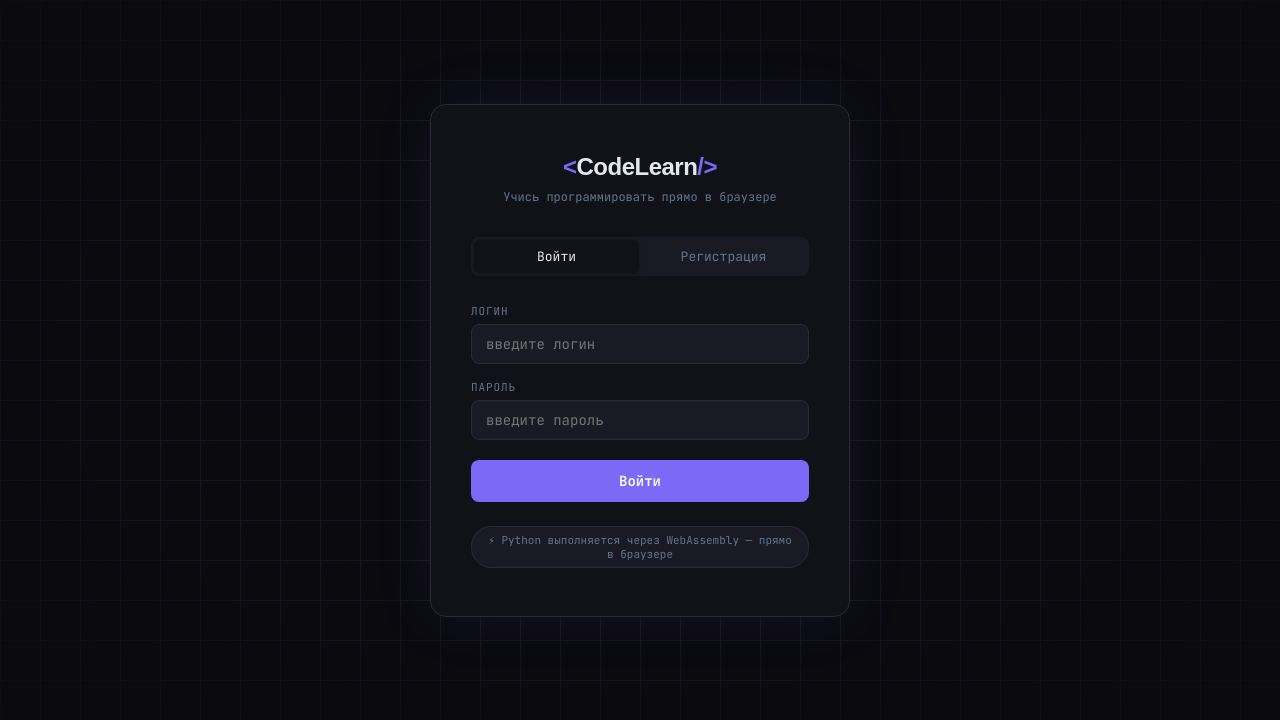
Test: сообщение об ошибке исчезает при переключении вкладки
In the field with placeholder "введите логин": (640, 344) top-left (471, 324), bottom-right (809, 364), type "alice"
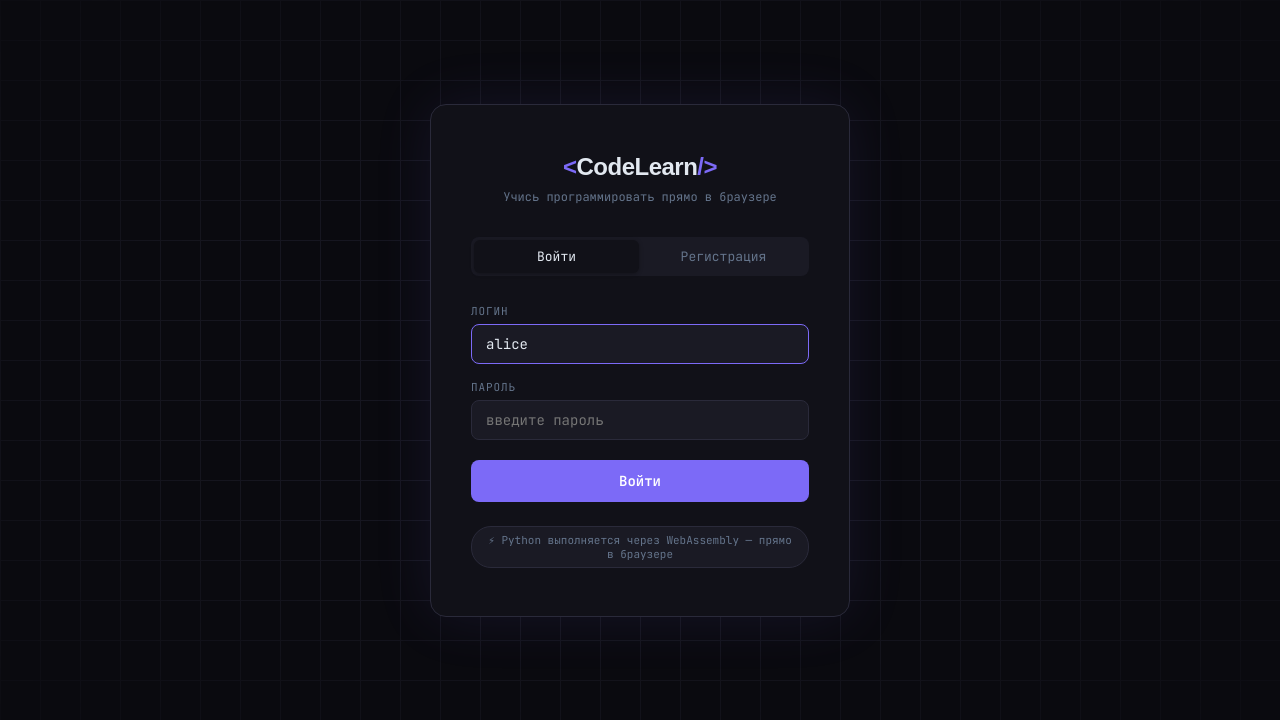
In the password field with placeholder "введите пароль": (640, 420) top-left (471, 400), bottom-right (809, 440), type "secret"
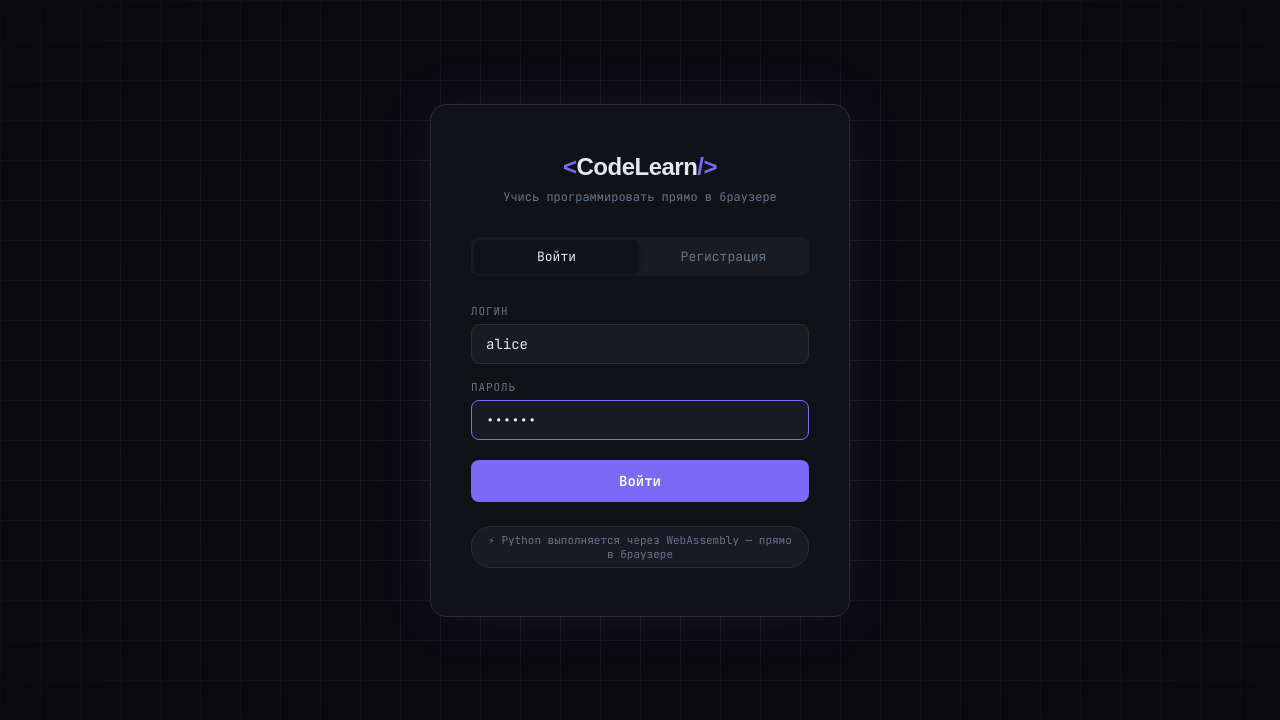
Click the button with class "auth-btn": click(640, 480) top-left (471, 460), bottom-right (809, 502)
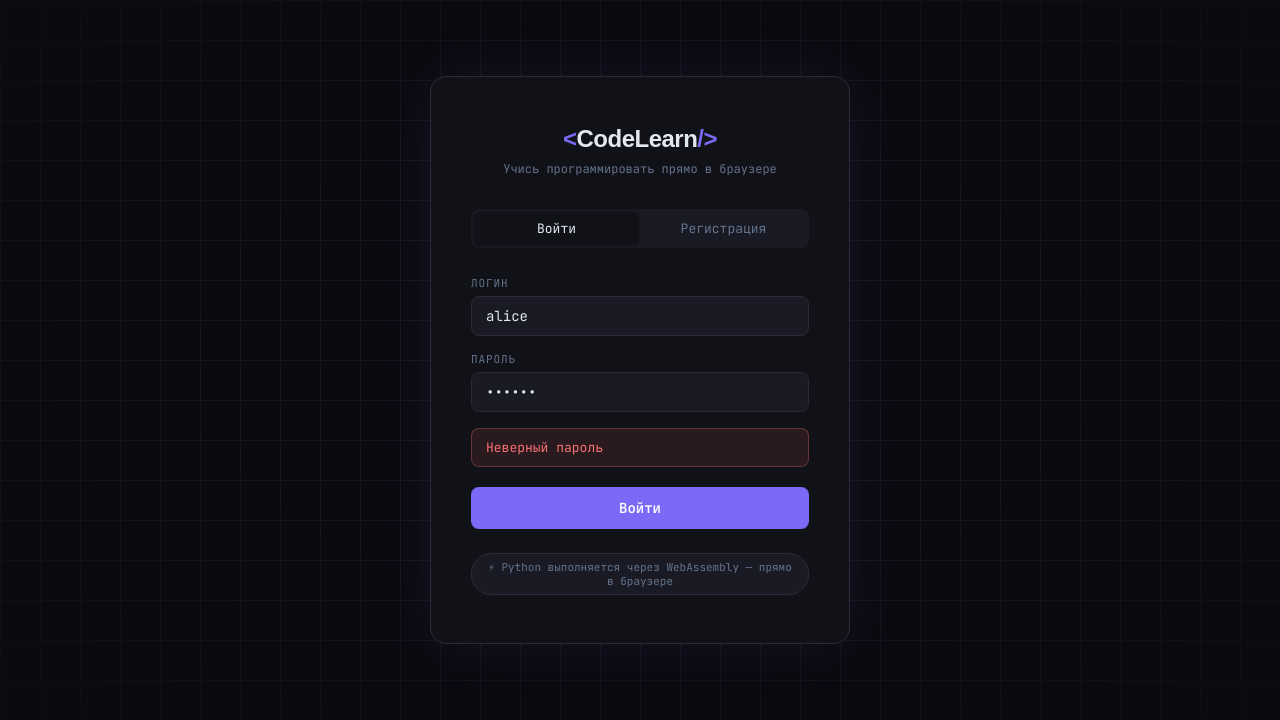
Expected: the text "Неверный пароль" is shown, top-left (471, 428), bottom-right (809, 467)
Click the button "Регистрация": click(724, 228) top-left (641, 212), bottom-right (806, 245)
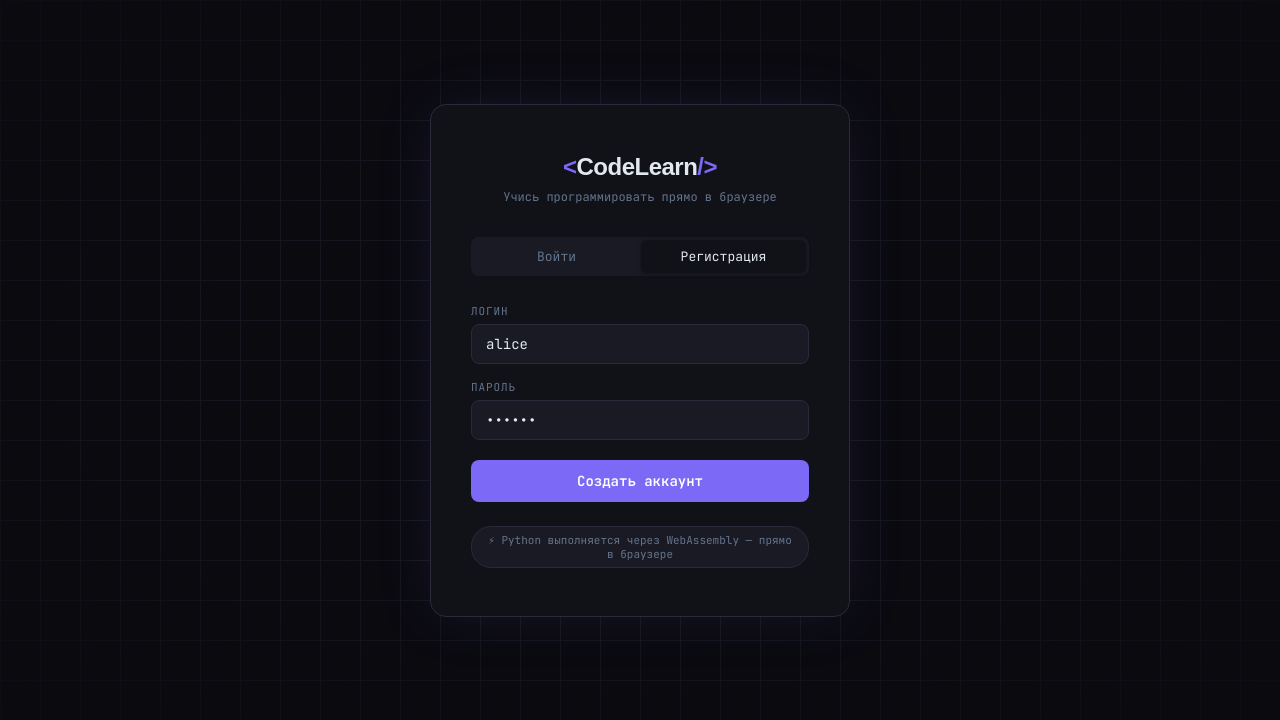
Expected: the text "Неверный пароль" is gone
